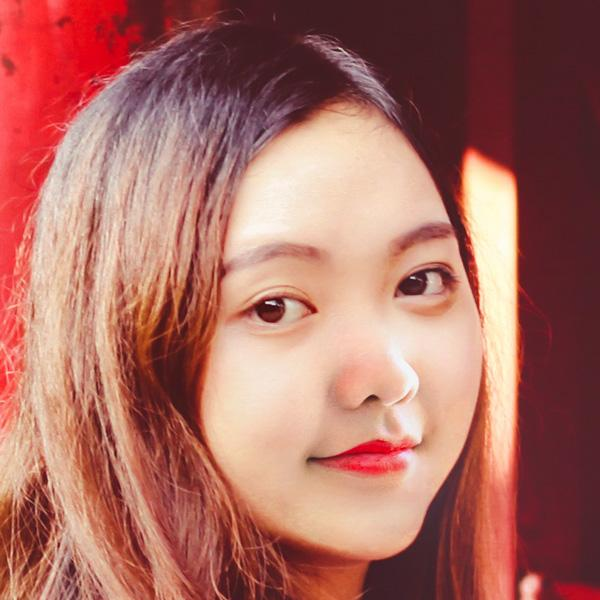Eyes: (221, 274, 328, 344), (382, 255, 461, 318)
